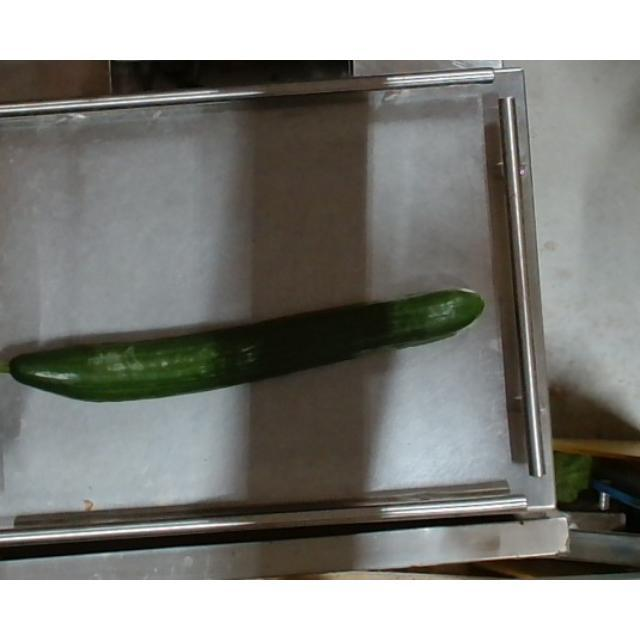cucumber: (0, 287, 486, 403)
